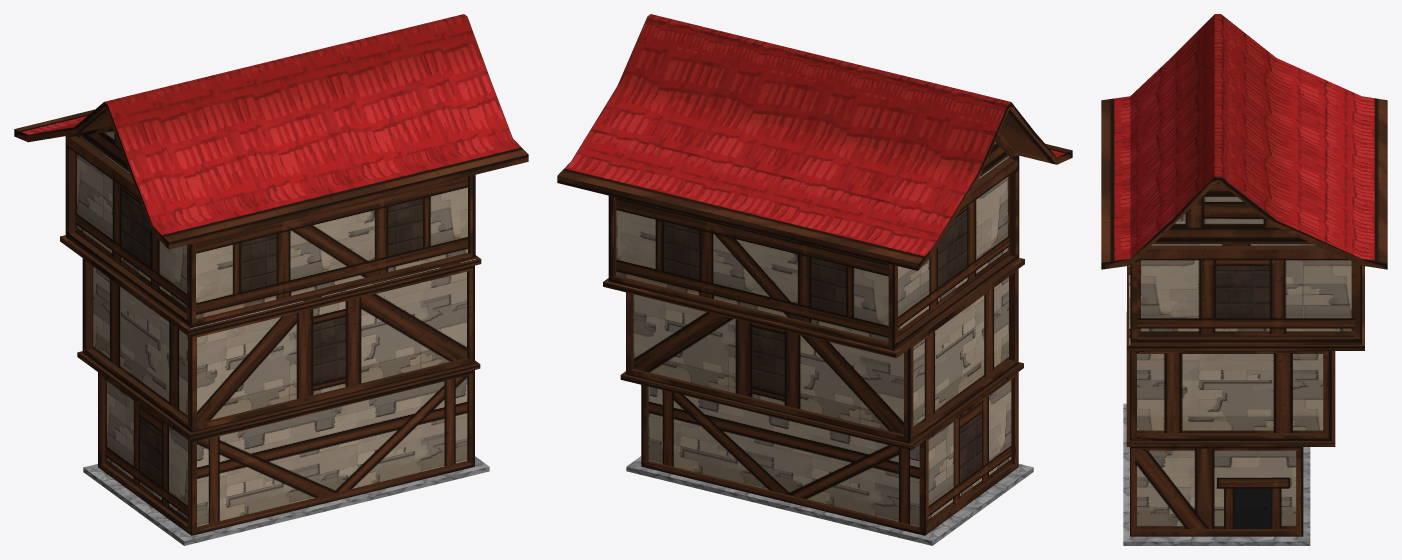
Rendered from House Base3c_Blue.fbx.
The picture shows the model from 3 angles, left to right: view 1: azimuth 30°, elevation 25°; view 2: azimuth 150°, elevation 25°; view 3: azimuth 270°, elevation 25°; orthographic projection. The views are drawn at different scales.
Visible parts, largest first — view 1: House Base 3c; view 2: House Base 3c; view 3: House Base 3c.
Part boxes in pixels (x1,y1,x2,y2): House Base 3c: (14,14,528,545); House Base 3c: (557,14,1072,545); House Base 3c: (1101,14,1387,545).
Bounding box in the file's own units: 1520 × 1664 × 1130.
